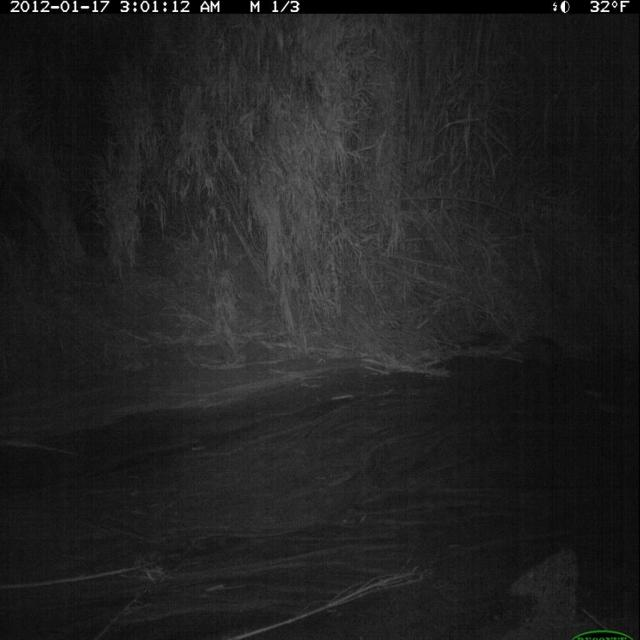opossum: (493, 327, 573, 384)
